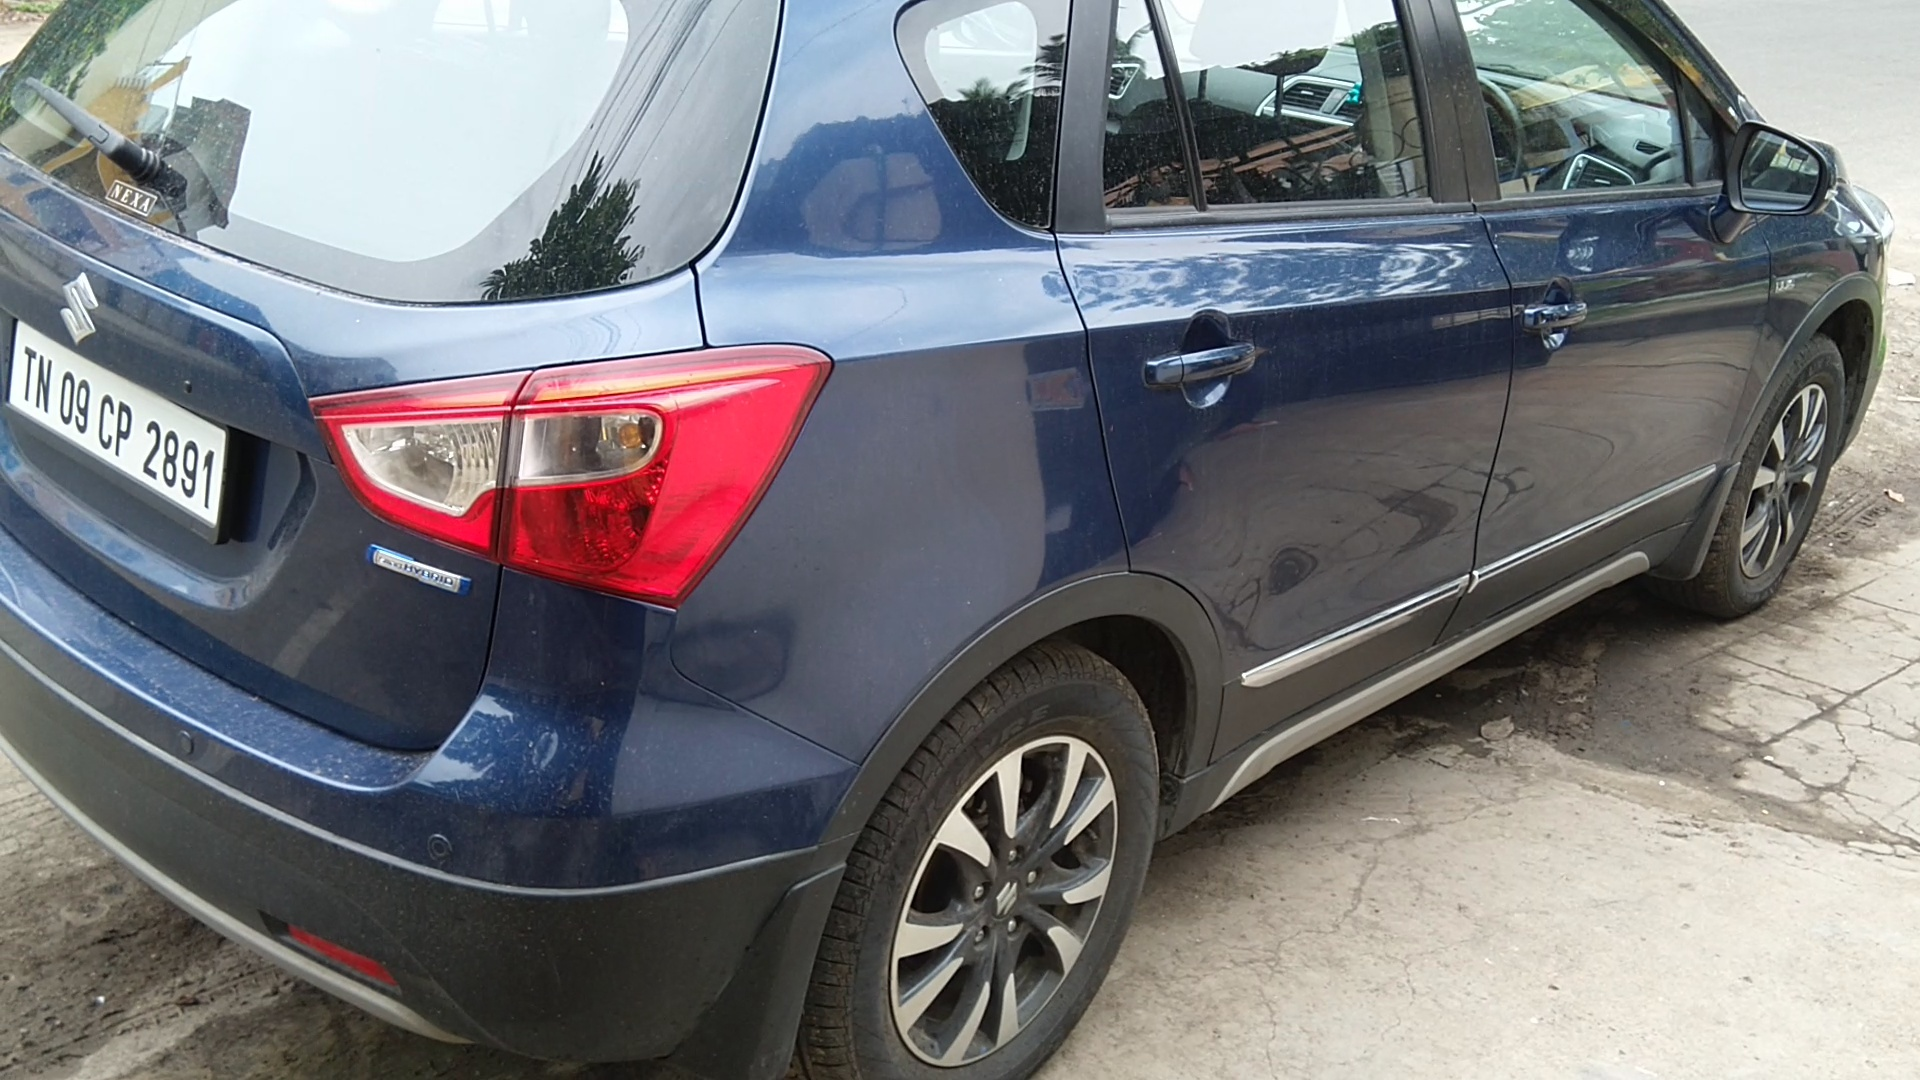alloy_wheel: (831, 655, 1159, 1080), (1698, 330, 1865, 617)
shvs: (353, 531, 476, 600)
